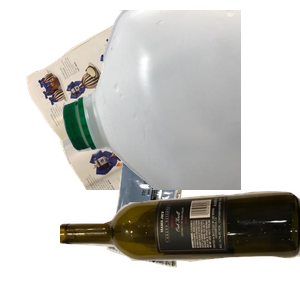glass: (60, 189, 300, 300)
paper: (24, 10, 235, 190)
plastic: (60, 10, 300, 190)
trash: (104, 152, 280, 300)
